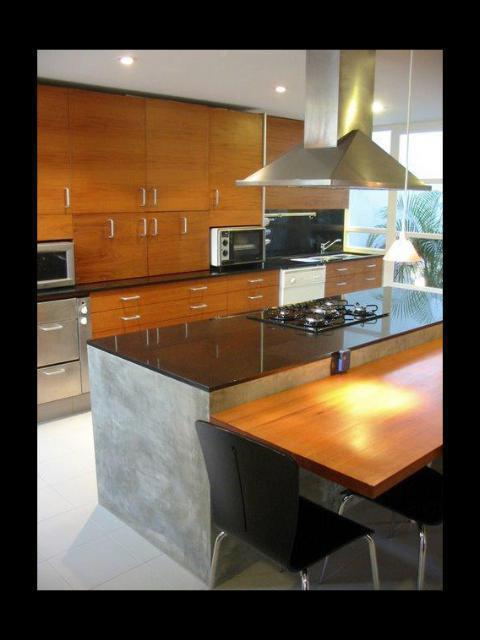Electrodomestico: (239, 287, 390, 341)
